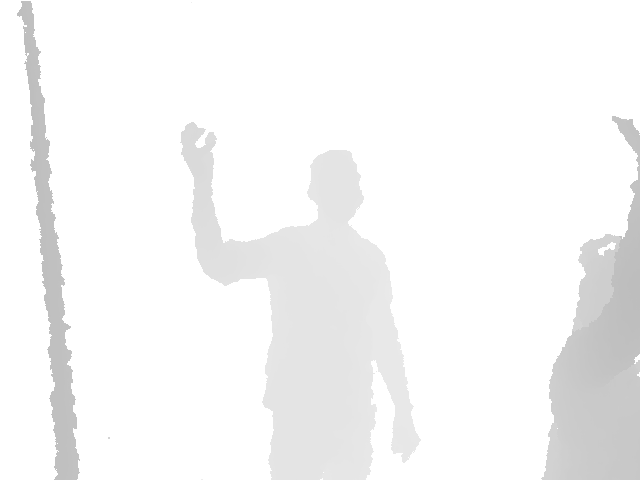hand: (179, 121, 217, 174), (610, 114, 640, 181)
head: (571, 234, 640, 346), (306, 148, 364, 222)
person: (179, 120, 422, 480), (539, 114, 640, 480)
